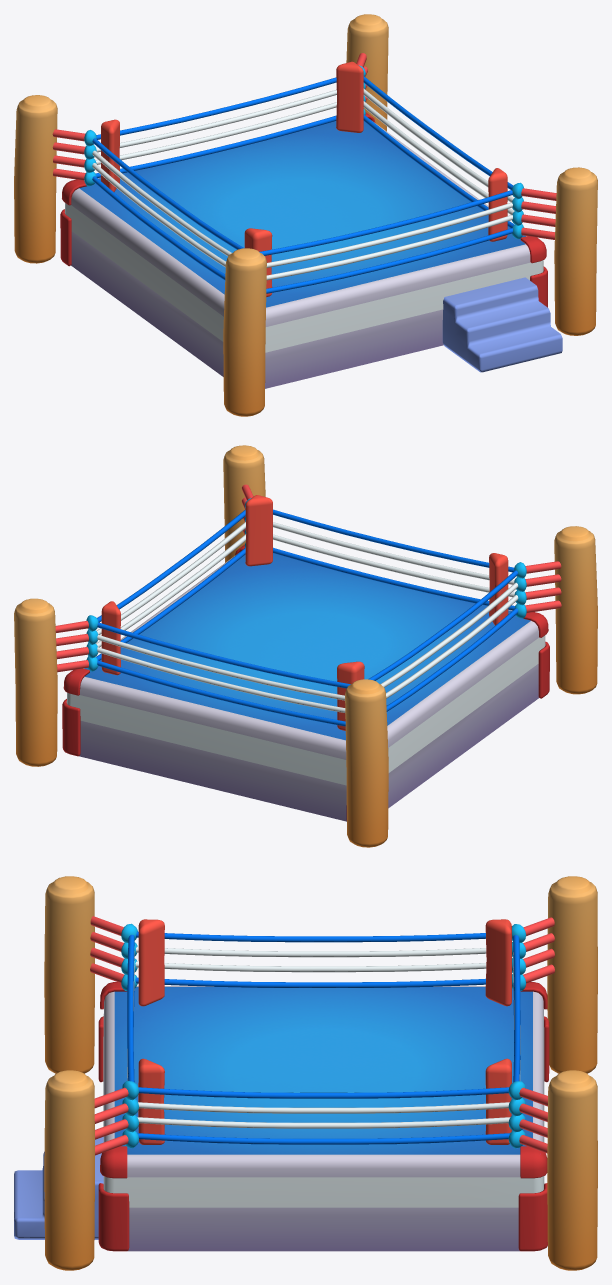
The model's file is Ringg.fbx.
The picture shows the model from 3 angles, top to bottom: view 1: azimuth 30°, elevation 25°; view 2: azimuth 150°, elevation 25°; view 3: azimuth 270°, elevation 25°; orthographic projection. The views are drawn at different scales.
Visible parts, largest first — view 1: ring1; view 2: ring1; view 3: ring1.
Boxes of the visible parts, <box> form: ring1: <box>14,14,597,416</box>; ring1: <box>14,445,597,847</box>; ring1: <box>14,876,597,1270</box>.
Bounding box in the file's own units: 869 × 355 × 990.
